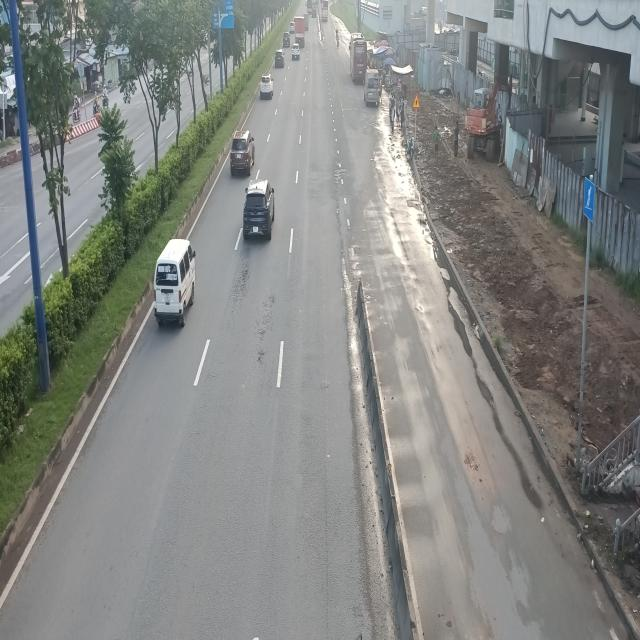car: (244, 181, 277, 240), (230, 130, 257, 175), (260, 73, 274, 99)
coach: (351, 34, 369, 85)
van: (152, 239, 196, 327), (363, 70, 381, 106)
